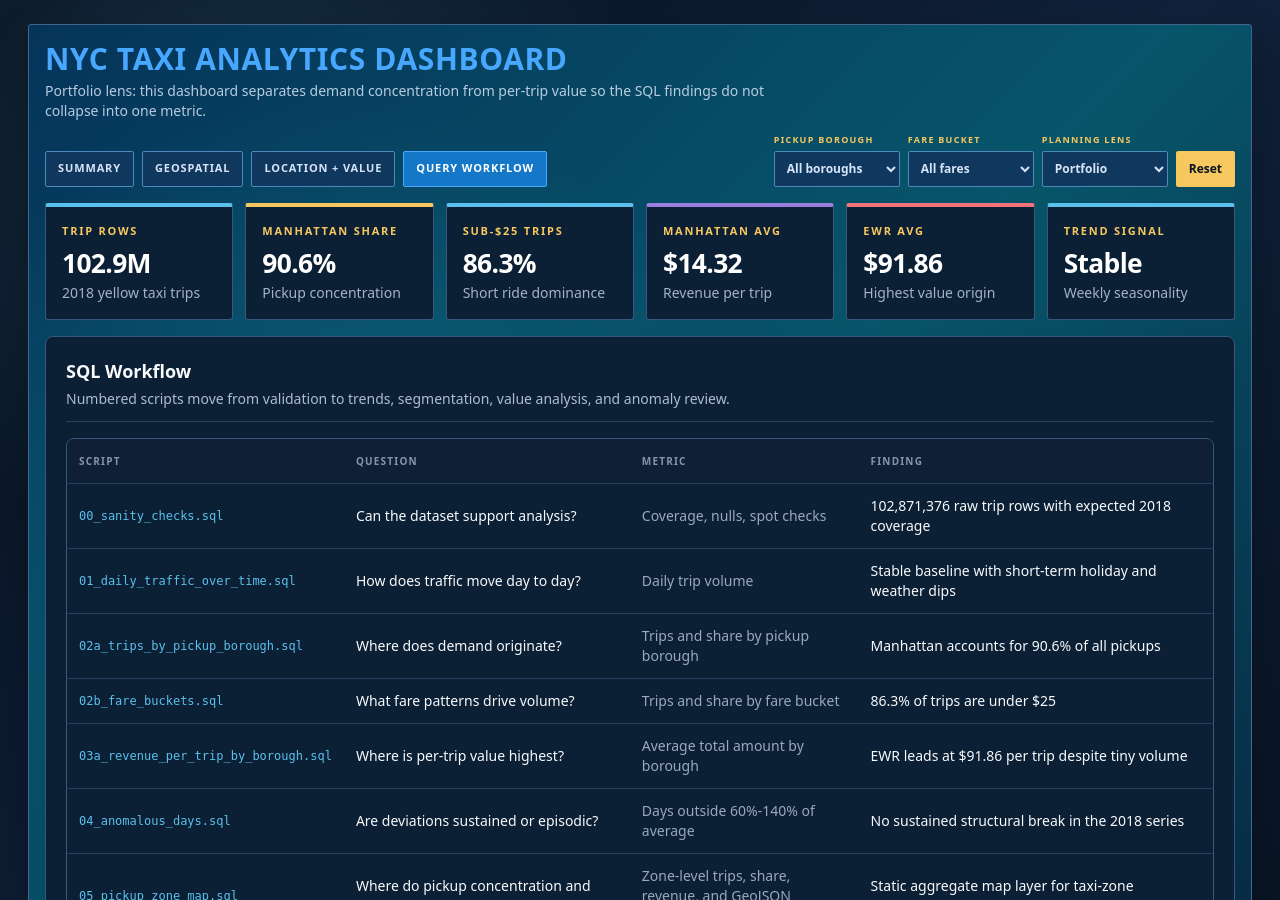
Test: DashboardView › renders the geospatial tab and changes the active map metric
Click the button "Geospatial".
click(193, 168)  # box [142, 150, 243, 186]
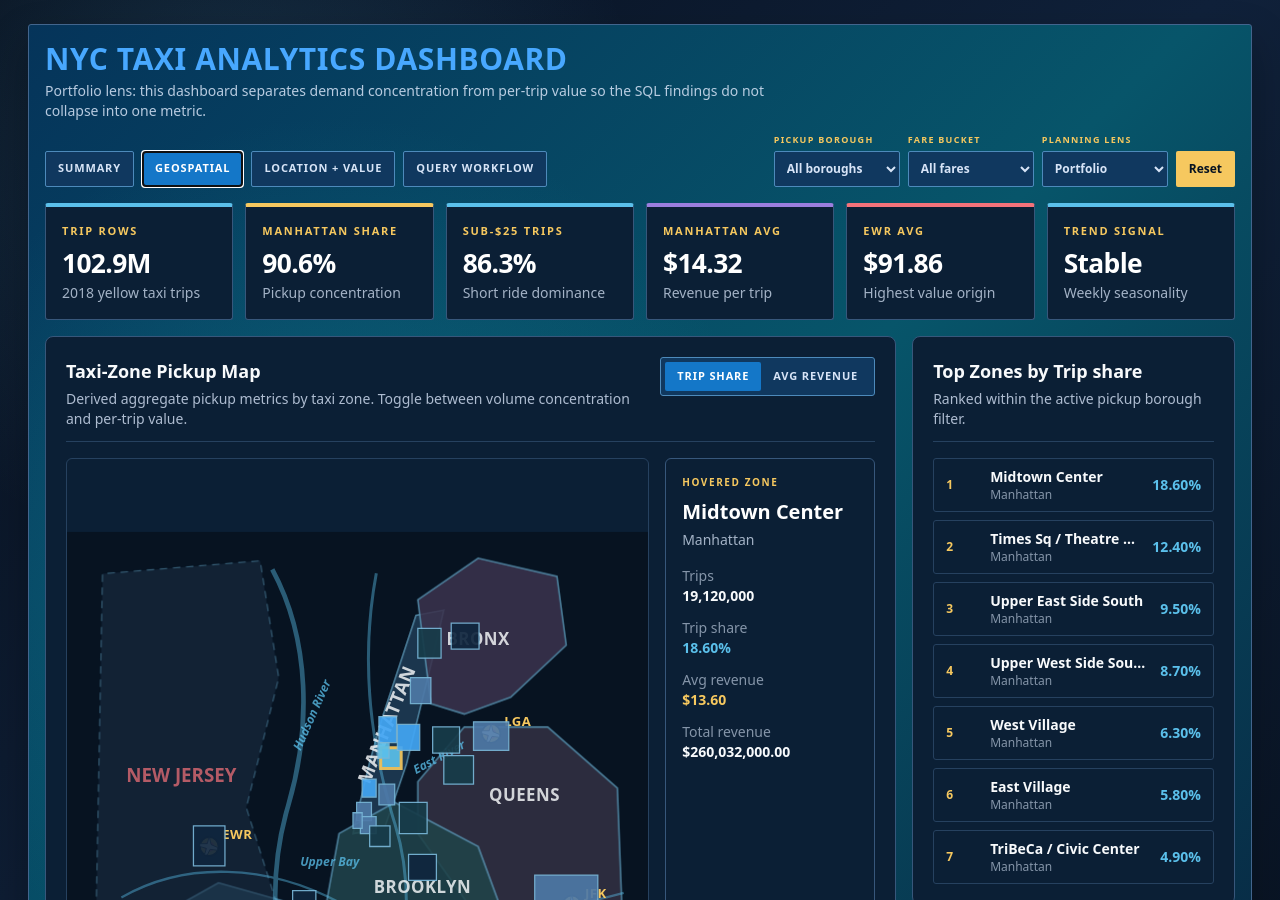
Expected: the heading "Taxi-Zone Pickup Map" is shown, [66, 359, 261, 383]
Click the button "Avg revenue".
click(816, 376)  # box [761, 362, 870, 390]
(page scrolled)
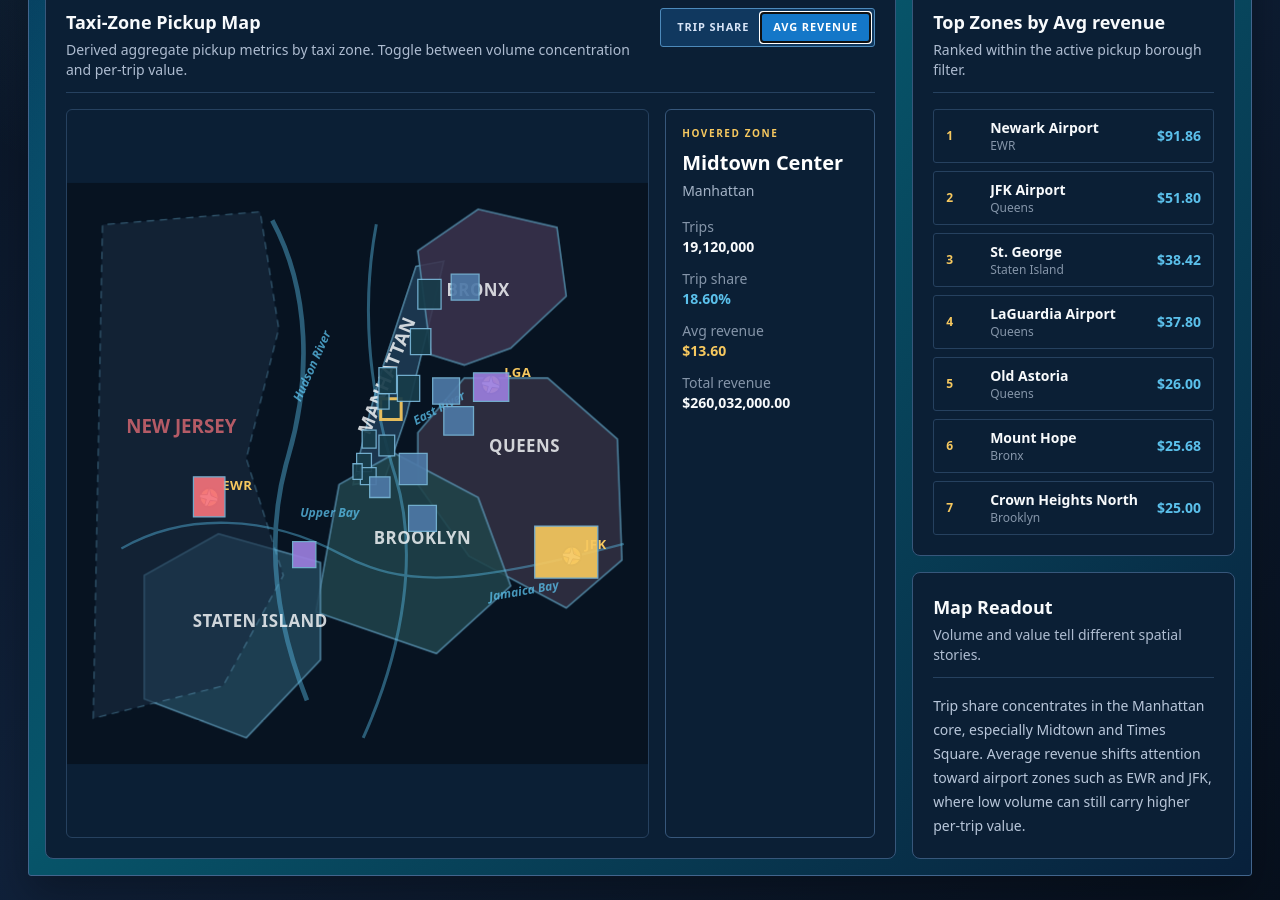
Expected: the picture named "taxi-zone choropleth by avg revenue" is shown, [67, 110, 648, 837]
